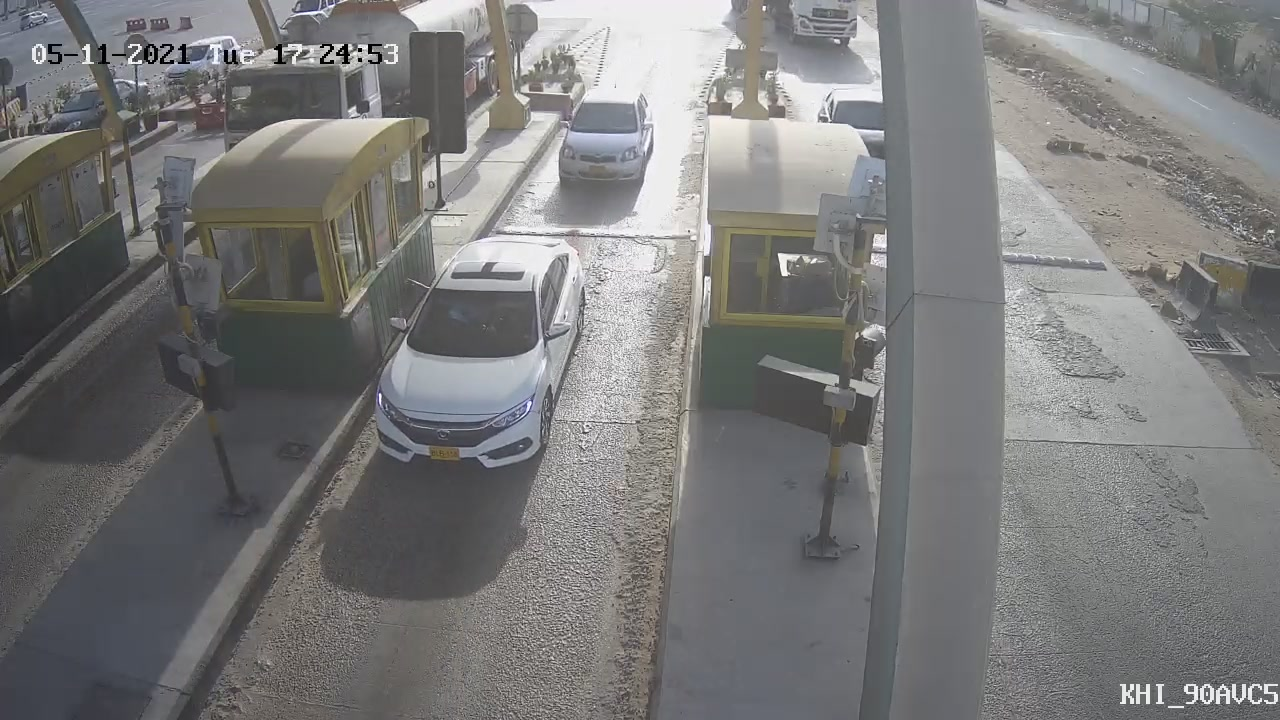F1: (337, 216, 608, 496), (533, 70, 673, 209)
